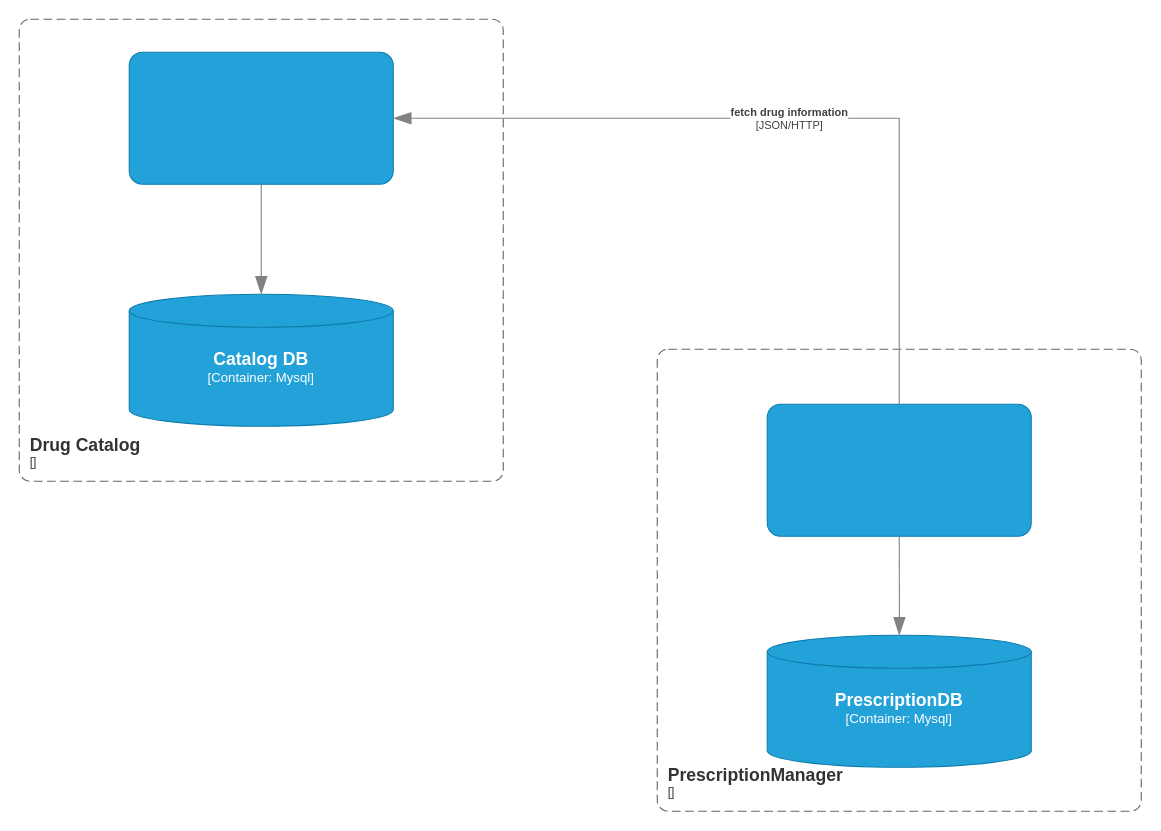
This 1161x831 diagram has some shape labels left out. Each missing label, with the centre of its shape:
"Catalog API [Container: SpringBoot]" belongs at point (260, 117).
"Prescription API [Container: SpringBoot]" belongs at point (898, 469).
